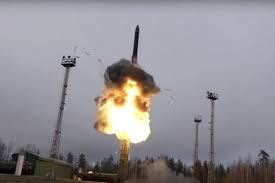ten_lua: (129, 20, 144, 65)
